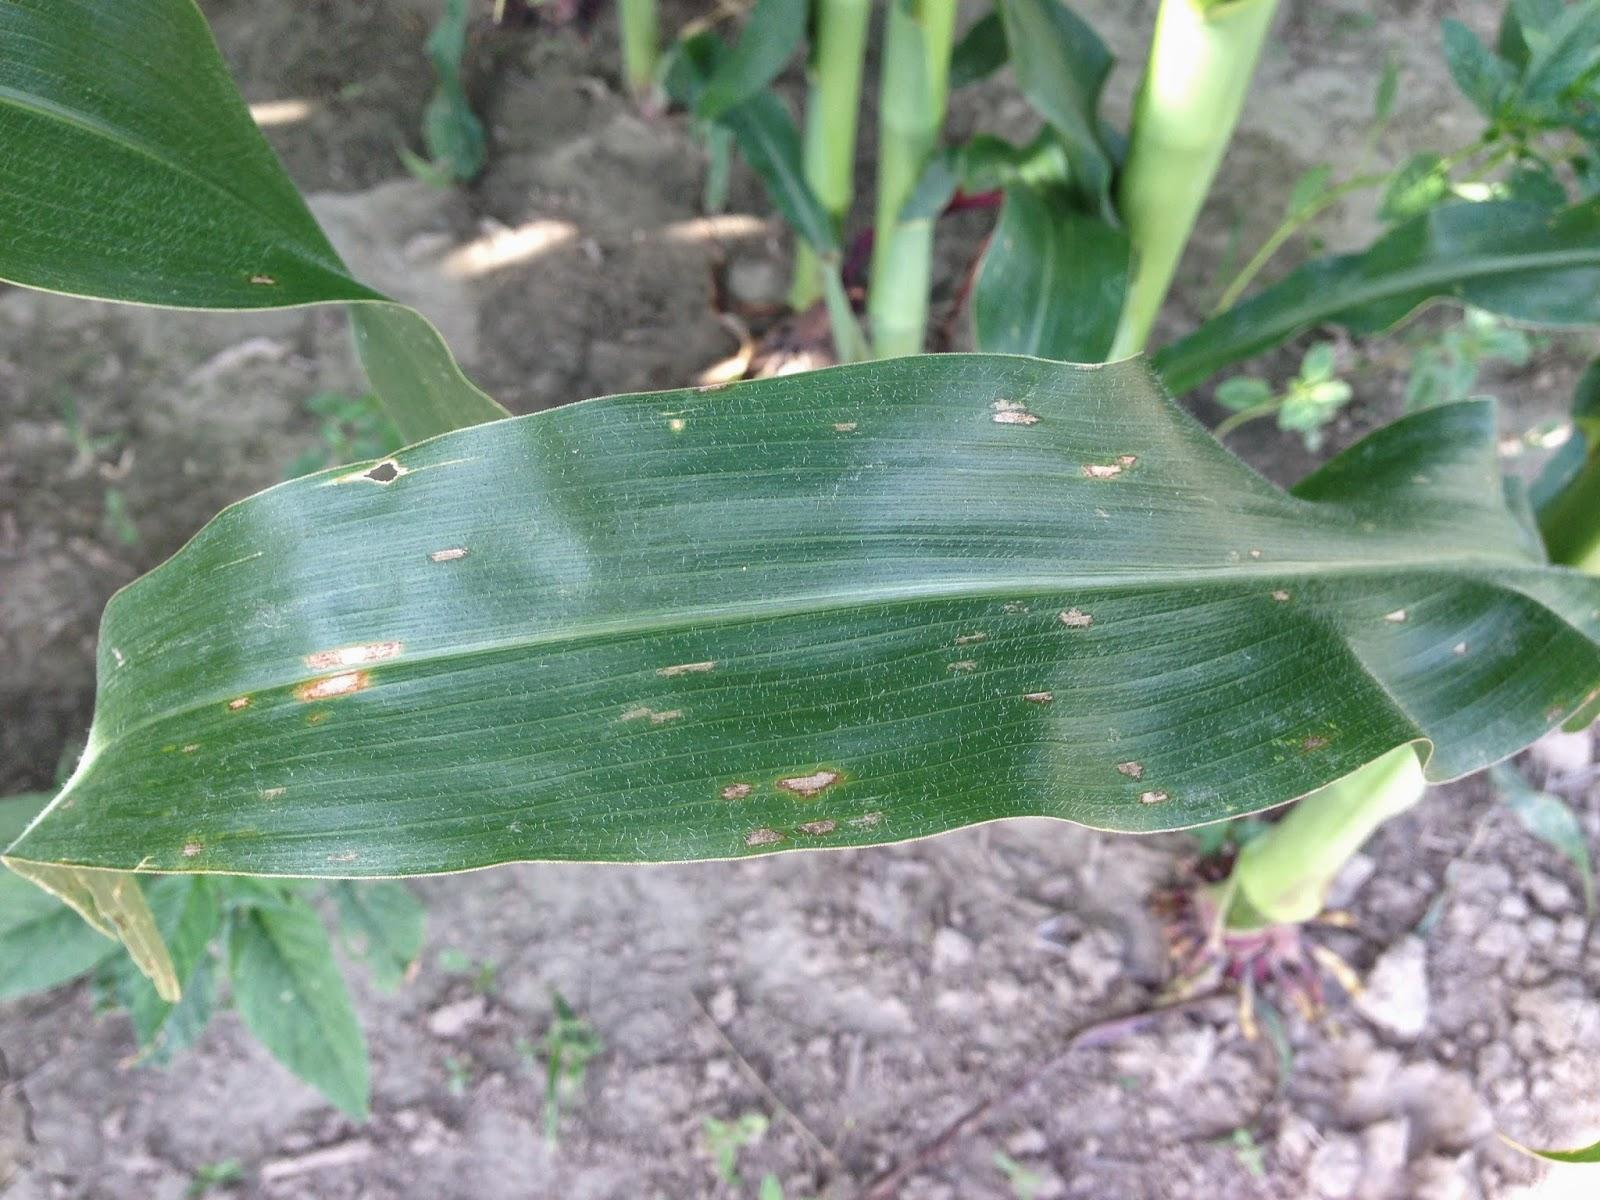Corn leaf blight: (13, 379, 1599, 879)
